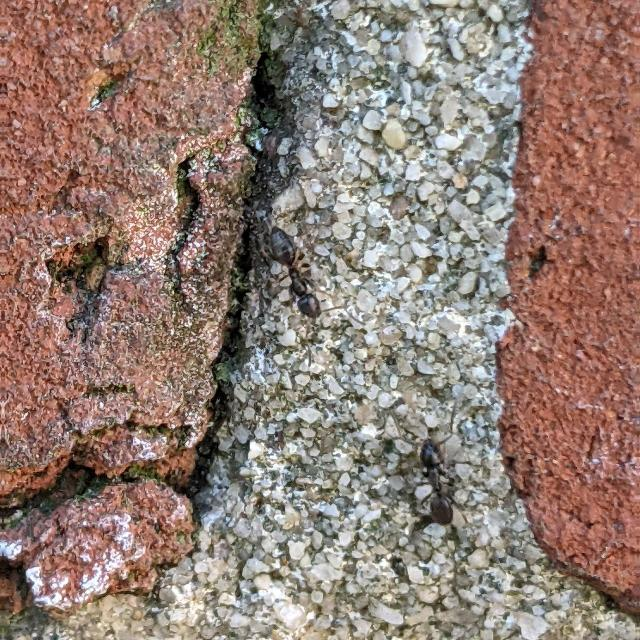Tapinoma: (256, 220, 336, 330), (404, 430, 466, 534)
